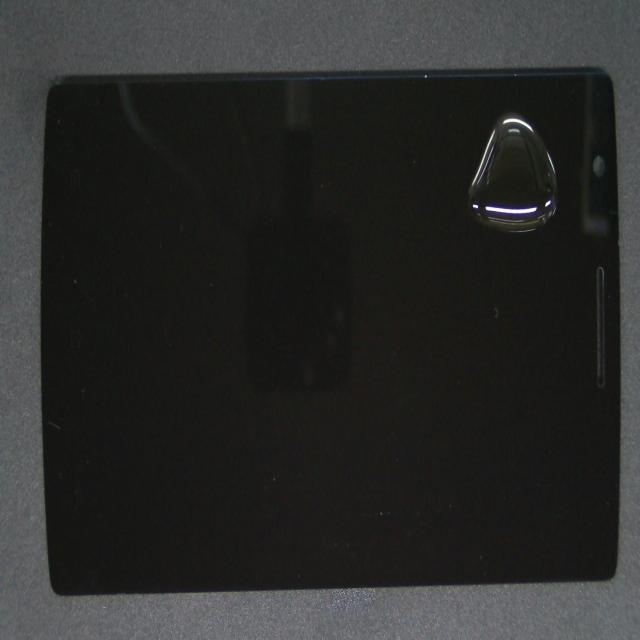oil: (301, 69, 640, 172)
